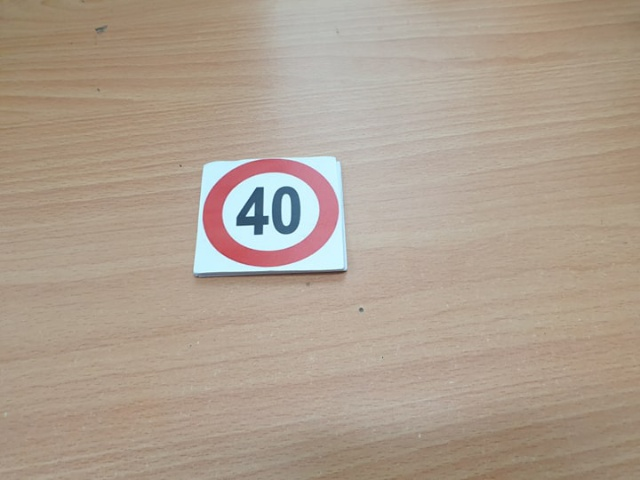Limit 40: (202, 158, 340, 270)
